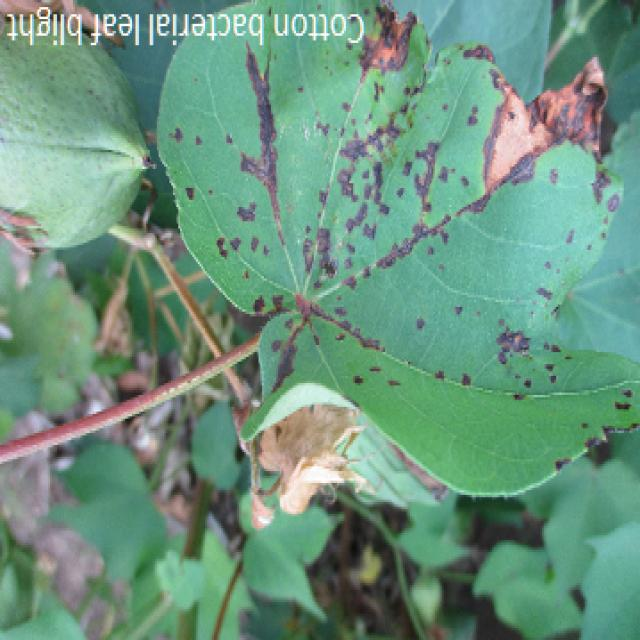Bacterial Blight: (248, 48, 619, 266)
